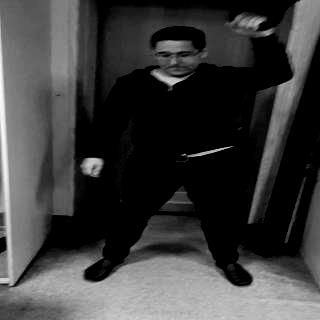kettlebell: (226, 1, 300, 32)
